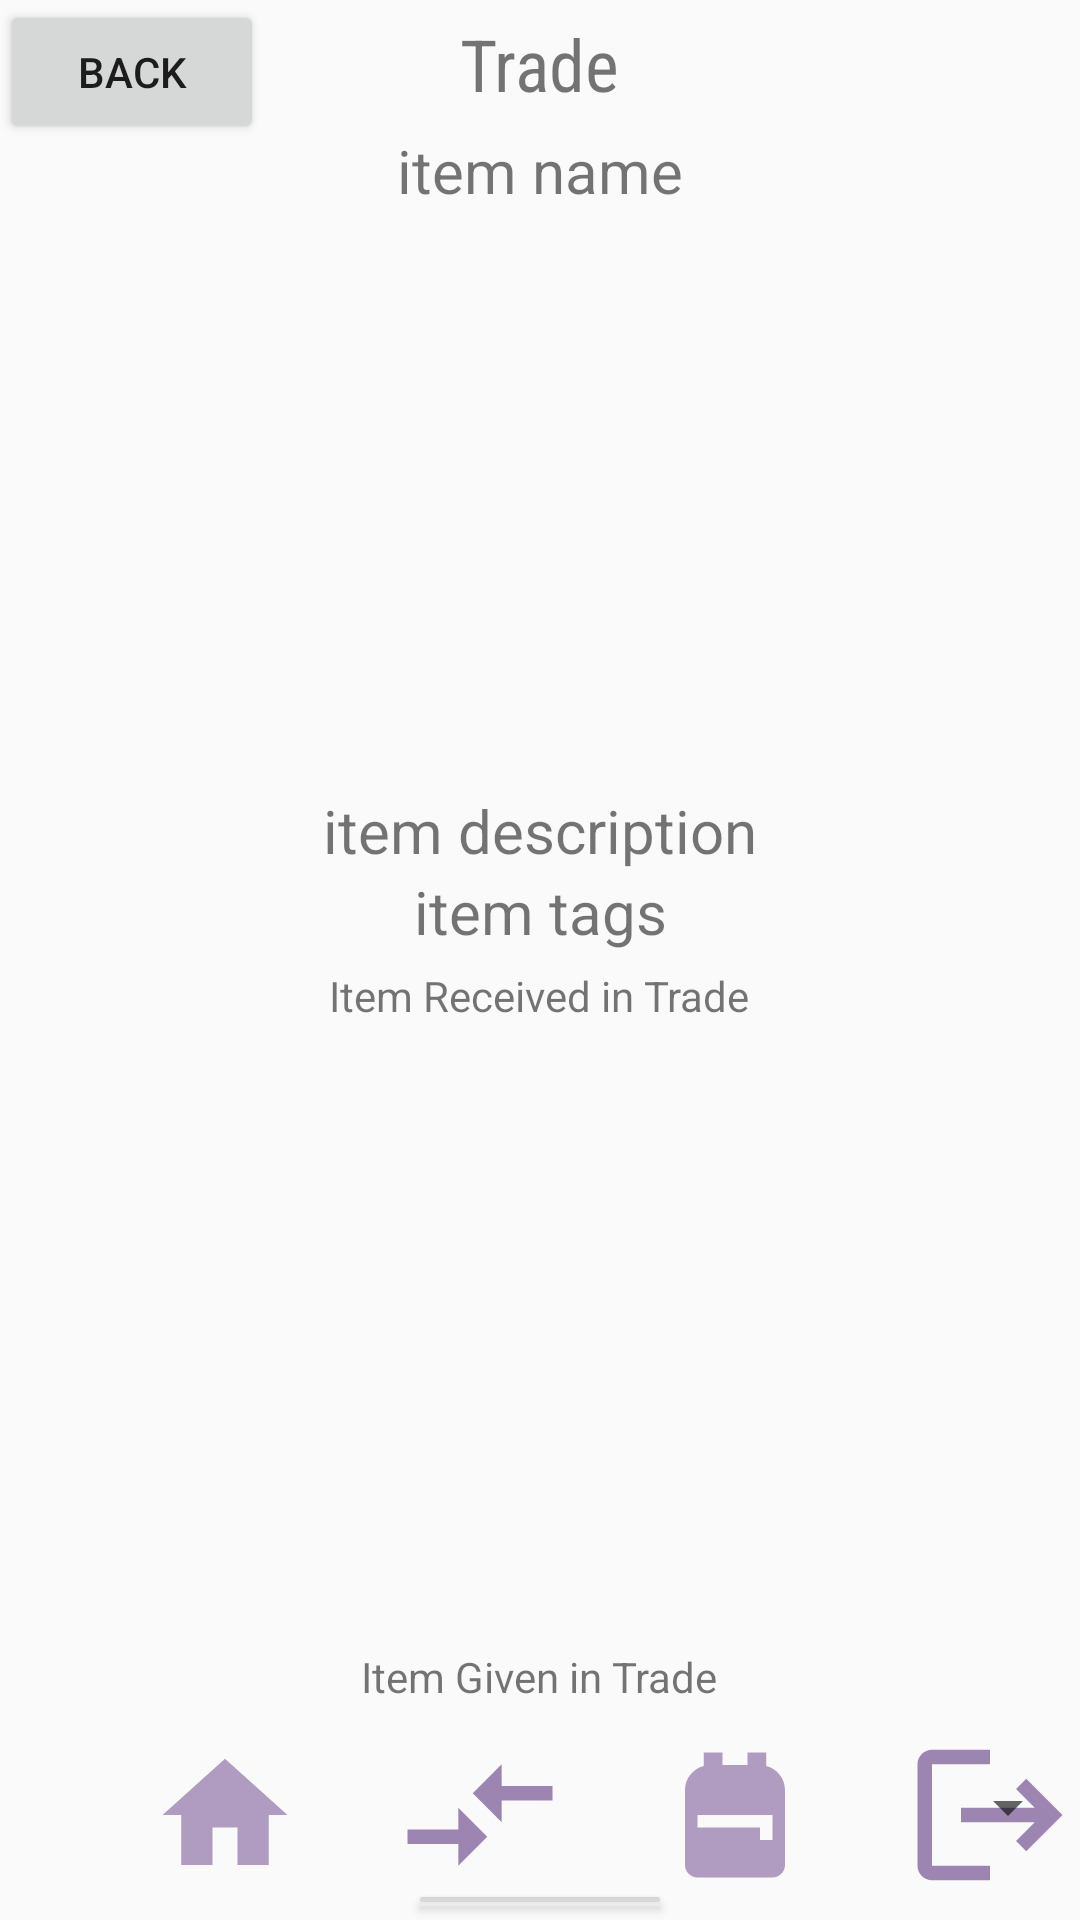

Named icons in this screenshot (1080×1920) and their centers, [x,y]:
Home Button: [225,1812]
Inventory Button: [735,1815]
Trade Block Button: [480,1815]
